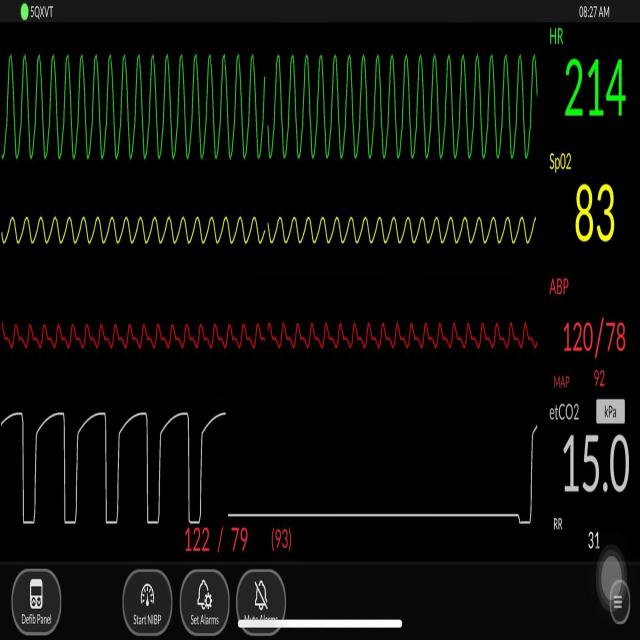danger: (1, 25, 536, 177)
